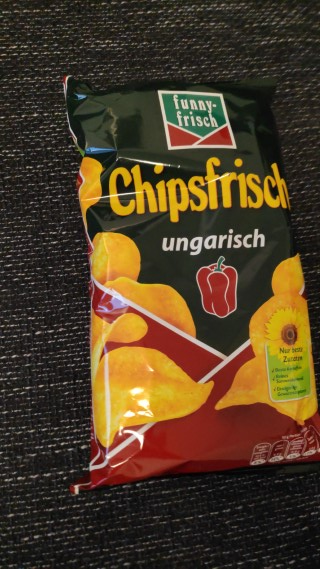chipsfrisch: (61, 71, 320, 496)
